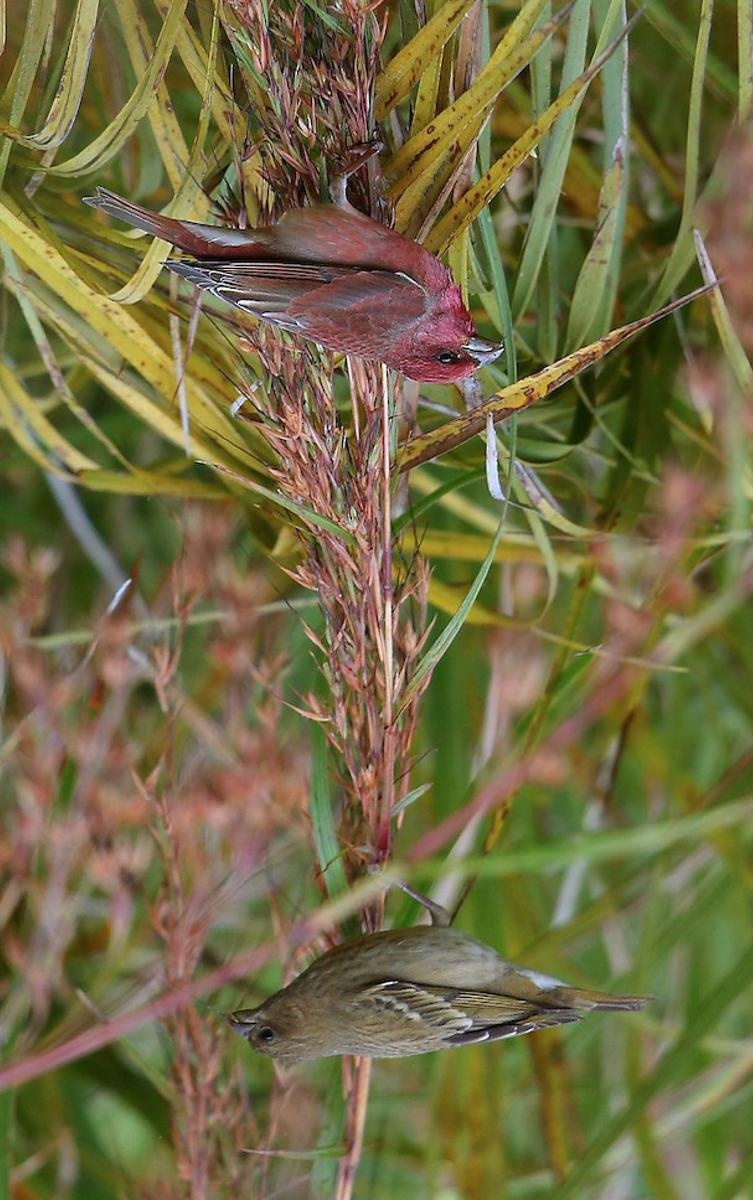rosefinch: (128, 191, 518, 411)
